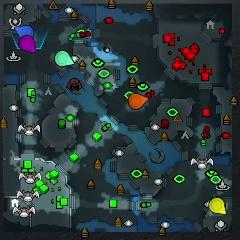p1: (15, 25, 33, 38)
p2: (55, 51, 73, 66)
p3: (19, 35, 35, 52)
p4: (210, 197, 226, 215)
p5: (129, 93, 148, 109)
